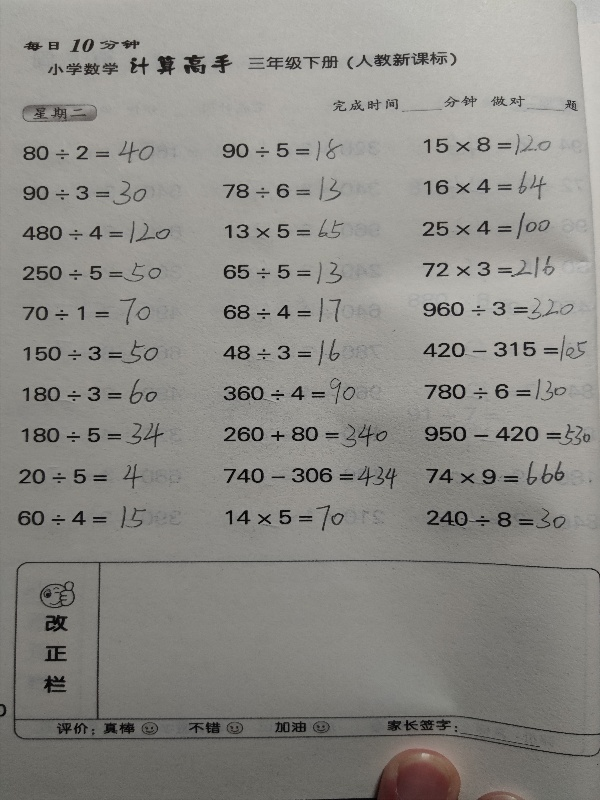equation: (222, 460, 405, 494), (210, 332, 367, 371), (421, 416, 597, 450), (420, 331, 591, 365), (219, 420, 395, 452), (16, 501, 162, 537), (14, 419, 176, 451), (220, 378, 364, 414), (424, 501, 572, 536), (19, 297, 171, 331), (20, 336, 172, 368), (420, 294, 578, 324), (223, 504, 358, 538), (19, 218, 177, 247), (420, 209, 554, 243), (419, 165, 549, 200), (421, 461, 575, 490), (22, 379, 168, 409), (421, 376, 571, 405), (19, 177, 151, 209), (219, 174, 345, 206), (20, 138, 158, 167), (19, 260, 165, 287), (421, 130, 555, 159), (220, 295, 345, 326), (420, 255, 558, 283), (17, 462, 153, 490), (220, 258, 346, 288), (218, 137, 345, 166), (222, 215, 348, 243)
